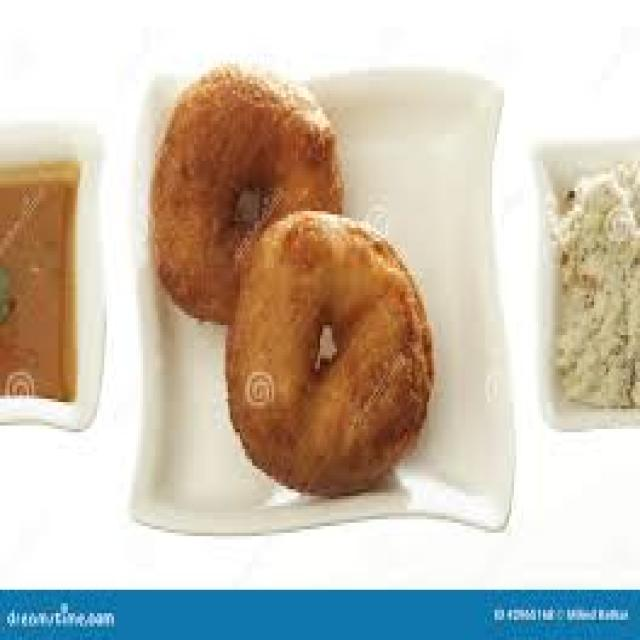MEDU VADA: (225, 210, 429, 504), (146, 69, 342, 331)
